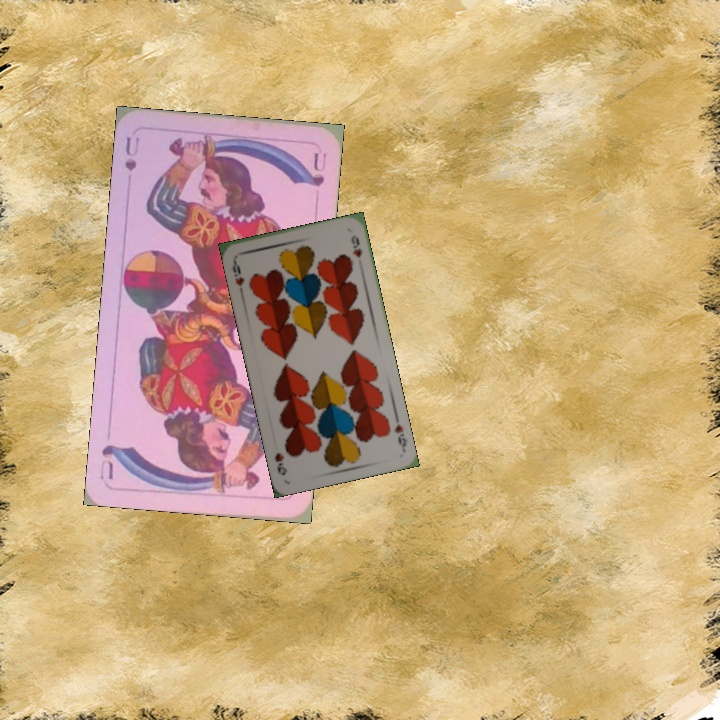H9: (228, 255, 247, 289), (390, 420, 409, 453)
SU: (121, 133, 142, 174)
